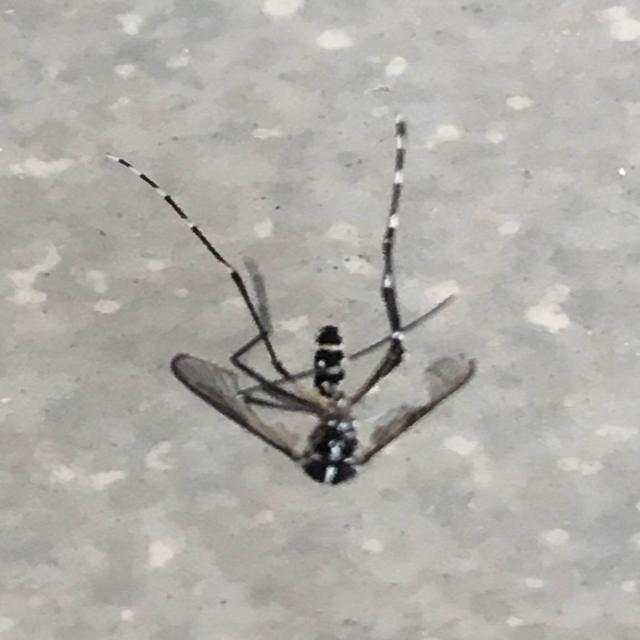albopictus: (111, 85, 496, 507)
